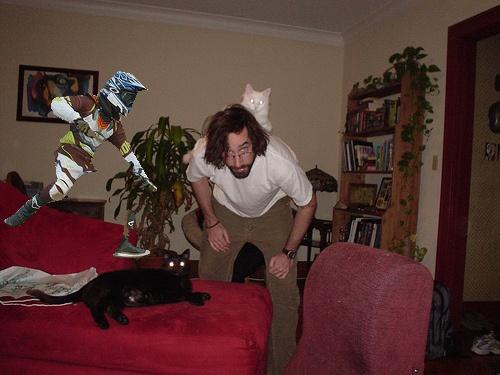tampered: (5, 72, 157, 258)
